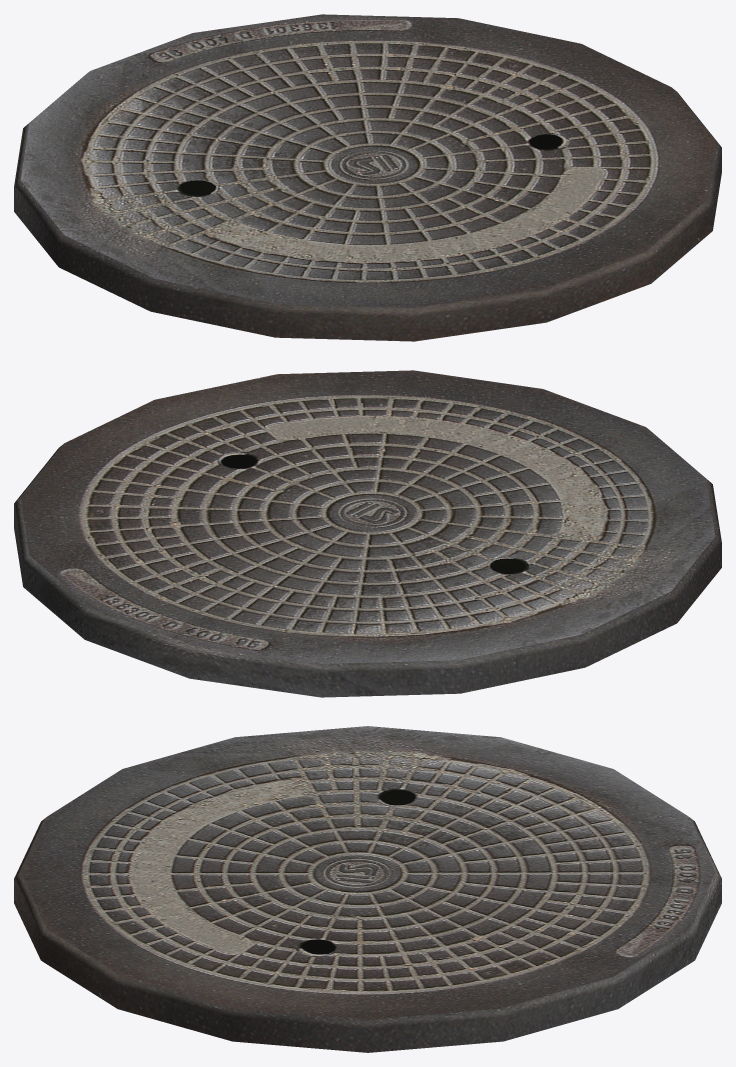
Rendered from manhole_cover_02.fbx.
The picture shows the model from 3 angles, top to bottom: view 1: azimuth 30°, elevation 25°; view 2: azimuth 150°, elevation 25°; view 3: azimuth 270°, elevation 25°; orthographic projection.
Parts seen in each view (by area): view 1: manhole_cover2; view 2: manhole_cover2; view 3: manhole_cover2.
Boxes of the visible parts, x1,y1,x2,y2 form: manhole_cover2: (14,14,721,341); manhole_cover2: (14,370,721,697); manhole_cover2: (14,726,721,1052).
Size of the model in its own units: 2 by 0.095 by 2.
